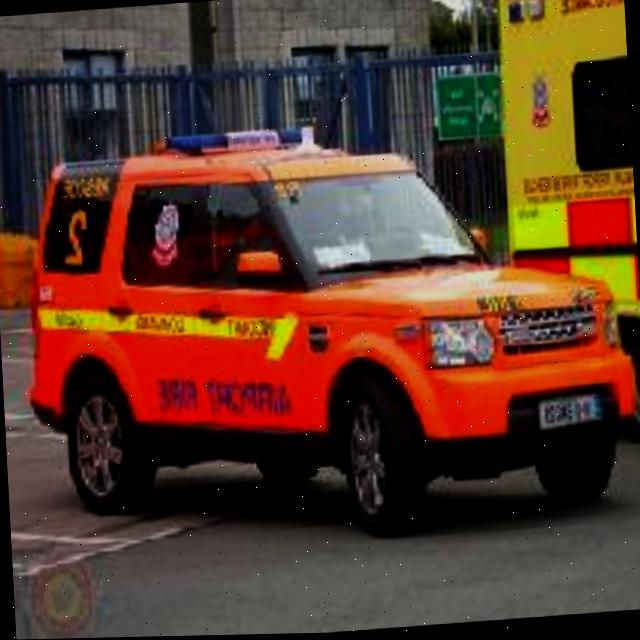emergency: (20, 105, 623, 548), (489, 0, 640, 455)
